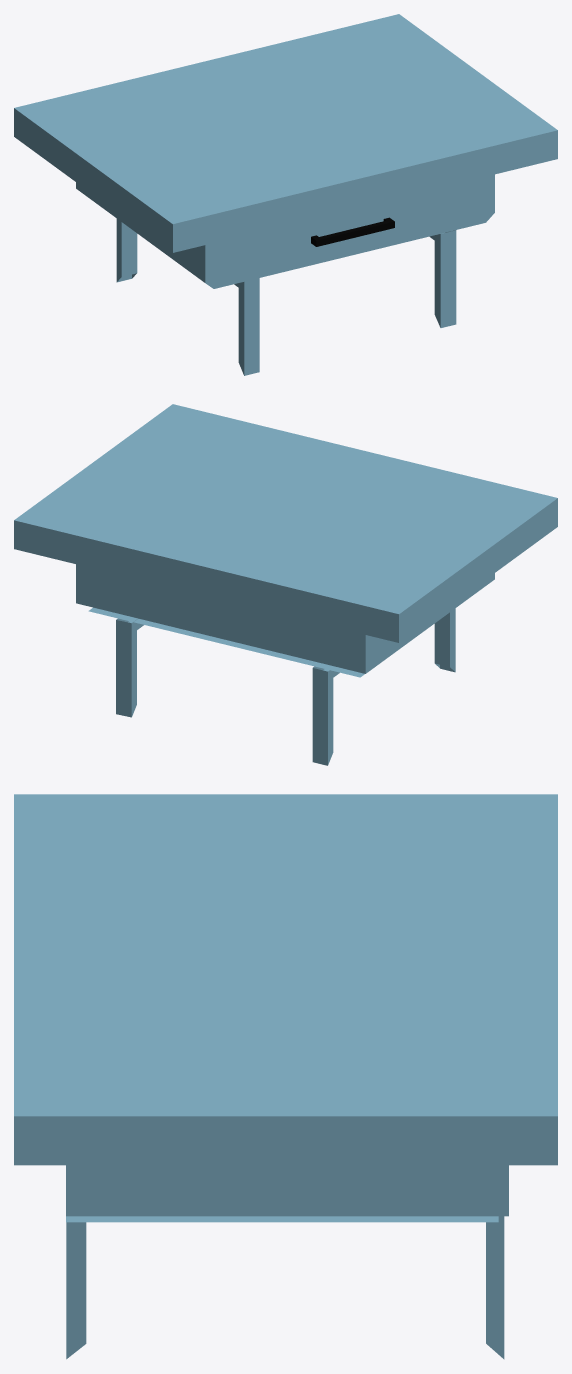
The model's file is MuebleLamp.obj.
The picture shows the model from 3 angles, top to bottom: view 1: azimuth 30°, elevation 25°; view 2: azimuth 150°, elevation 25°; view 3: azimuth 270°, elevation 25°; orthographic projection. The views are drawn at different scales.
Visible parts, largest first — view 1: polySurface8; view 2: polySurface8; view 3: polySurface8.
Boxes of the visible parts, bbox=[...] form: polySurface8: bbox=[14, 14, 557, 375]; polySurface8: bbox=[14, 404, 557, 765]; polySurface8: bbox=[14, 794, 557, 1359].
Size of the model in its own units: 70 by 32.01 by 50.
Materials: 2 (2 with a texture image).
